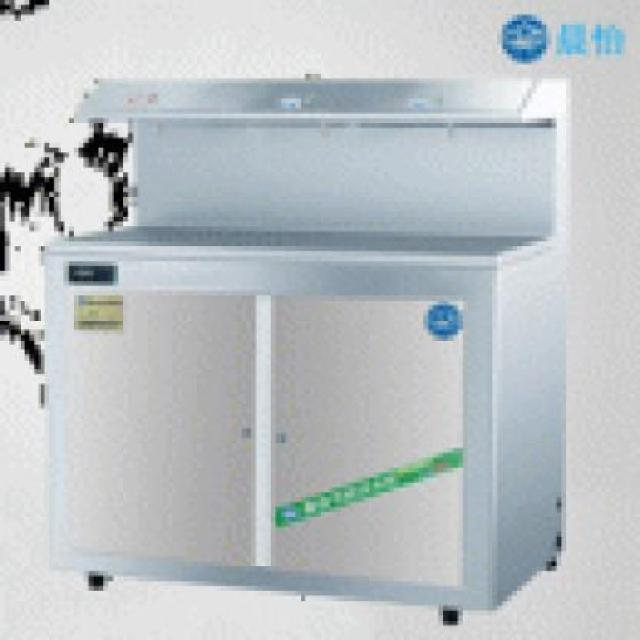cooler: (45, 68, 576, 624)
